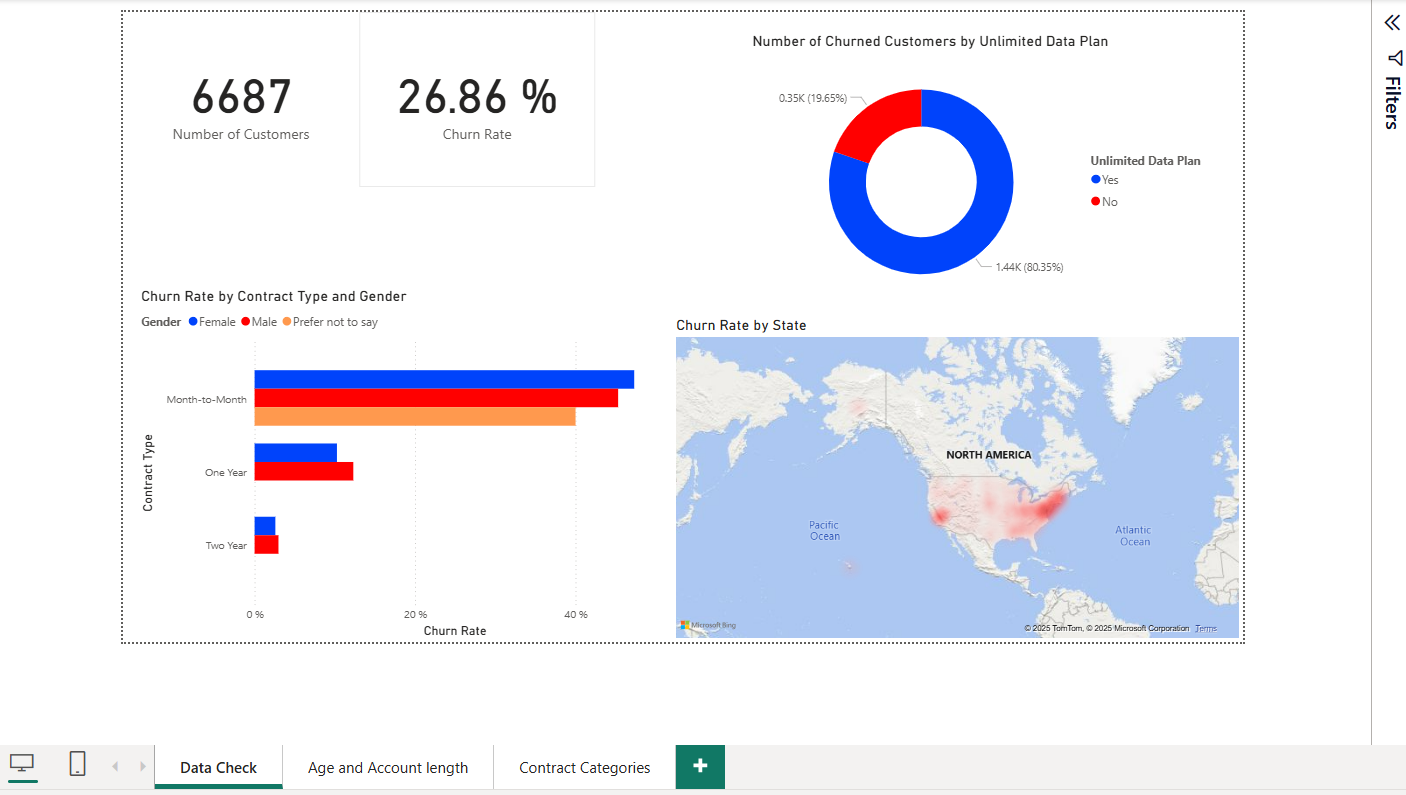

This screenshot's page, from the dashboard's own definition file:
{"tool":"powerbi","page":{"name":"Data Check","canvas":[1280,720],"ordinal":0},"visuals":[{"type":"card","fields":{"Values":["Databel - Data.Number of Customers"]},"box":[0,0,270,200],"z":0},{"type":"card","fields":{"Values":["Databel - Data.Churn Rate"]},"box":[270,0,270,200],"z":1000},{"type":"clusteredBarChart","fields":{"Category":["Databel - Data.Contract Type"],"Y":["Databel - Data.Churn Rate"],"Series":["Databel - Data.Gender"]},"box":[15.1,314.2,612,406.2],"z":2000},{"type":"map","fields":{"Category":["Databel - Data.State"],"Size":["Databel - Data.Churn Rate"]},"box":[627.1,347.2,653.2,373.2],"z":3000},{"type":"donutChart","fields":{"Category":["Databel - Data.Unlimited Data Plan"],"Y":["Databel - Data.Number of Churned Customers"]},"box":[714.9,23.3,536.5,323.8],"z":4000}]}

Visuals, with their boxes on the page's 1280x720 design canvas (x1, y1, x2, y2). These are canvas units, not pixel positions in the 1406x795 screenshot, which may show the page scaled, cropped or inside an application window:
card - Databel - Data.Number of Customers: rect(0, 0, 270, 200)
card - Databel - Data.Churn Rate: rect(270, 0, 540, 200)
clusteredBarChart - Databel - Data.Contract Type x Databel - Data.Churn Rate: rect(15, 314, 627, 720)
map - Databel - Data.State x Databel - Data.Churn Rate: rect(627, 347, 1280, 720)
donutChart - Databel - Data.Unlimited Data Plan x Databel - Data.Number of Churned Customers: rect(715, 23, 1251, 347)
